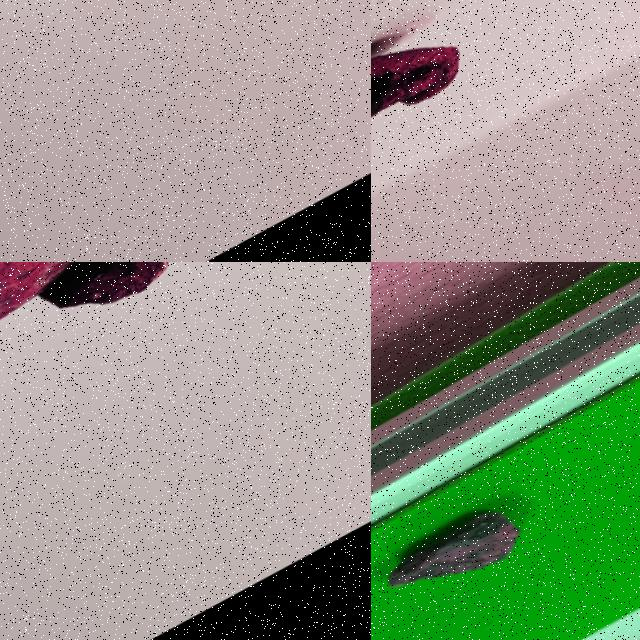Agglomerated_cocoabeans: (0, 262, 294, 504), (0, 0, 370, 114)
Flat_cocoabeans: (371, 417, 628, 639), (371, 0, 533, 261)
